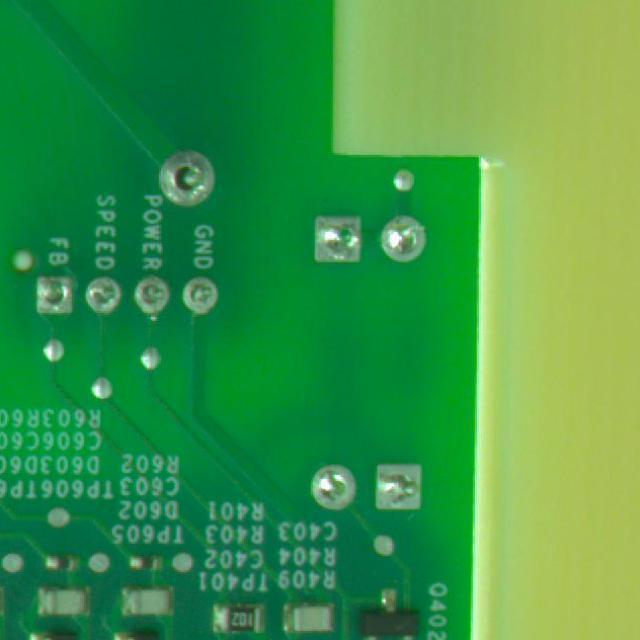Insufficient solder: (294, 444, 368, 516), (364, 444, 430, 522), (300, 194, 364, 270), (374, 202, 434, 278), (158, 150, 229, 213), (30, 265, 80, 328), (128, 275, 182, 315), (187, 275, 223, 318), (94, 262, 120, 310)
